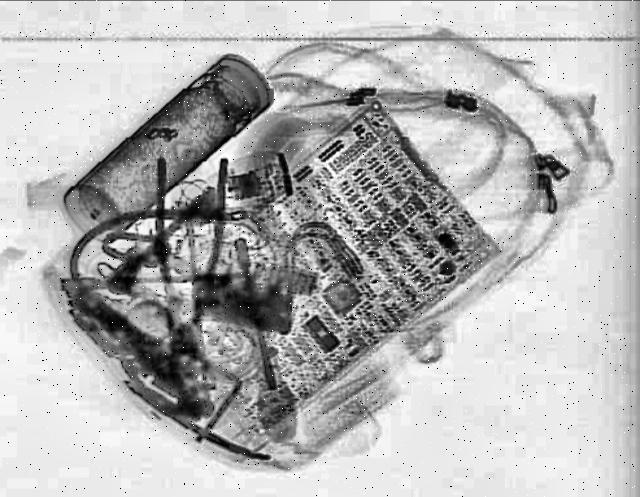Pliers: (155, 154, 229, 352)
